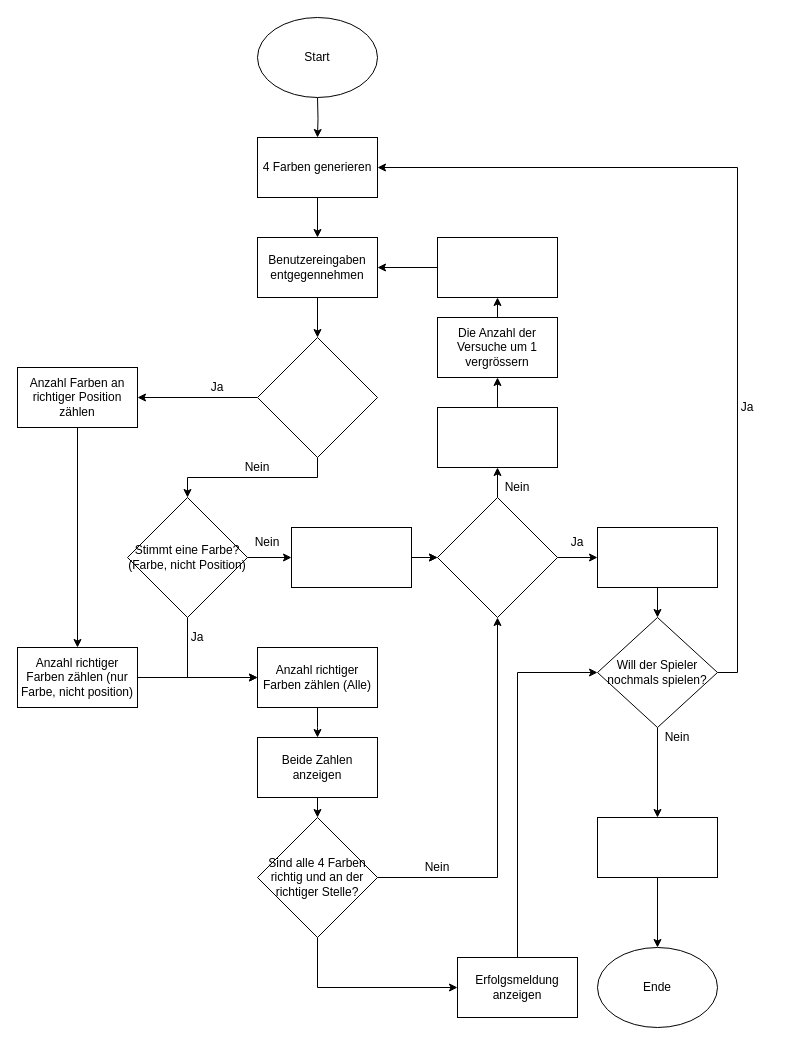
This 785x1045 diagram has some shape labels left out. Here are the shapes that lost their labels. From the top down, the centre of each, then its label:
[497,267]: Erneut Farbe beanfragen
[317,397]: Ist eine Farbe an der richtiger Position?
[497,437]: Anzeigen, in welcher Runde der Spieler sich befindet
[351,557]: Anzeigen, dass keine Farben richtig sind
[497,557]: Hatte der Spieler mehr als 11 Versuche?
[657,557]: Mitteilen, dass der Spieler verloren hat
[657,847]: Richtige Lösung anzeigen
